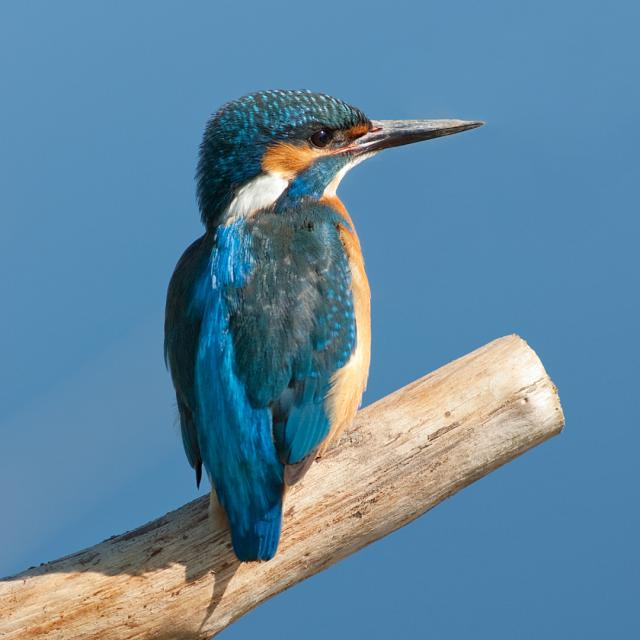kingfisher: (118, 55, 500, 591)
